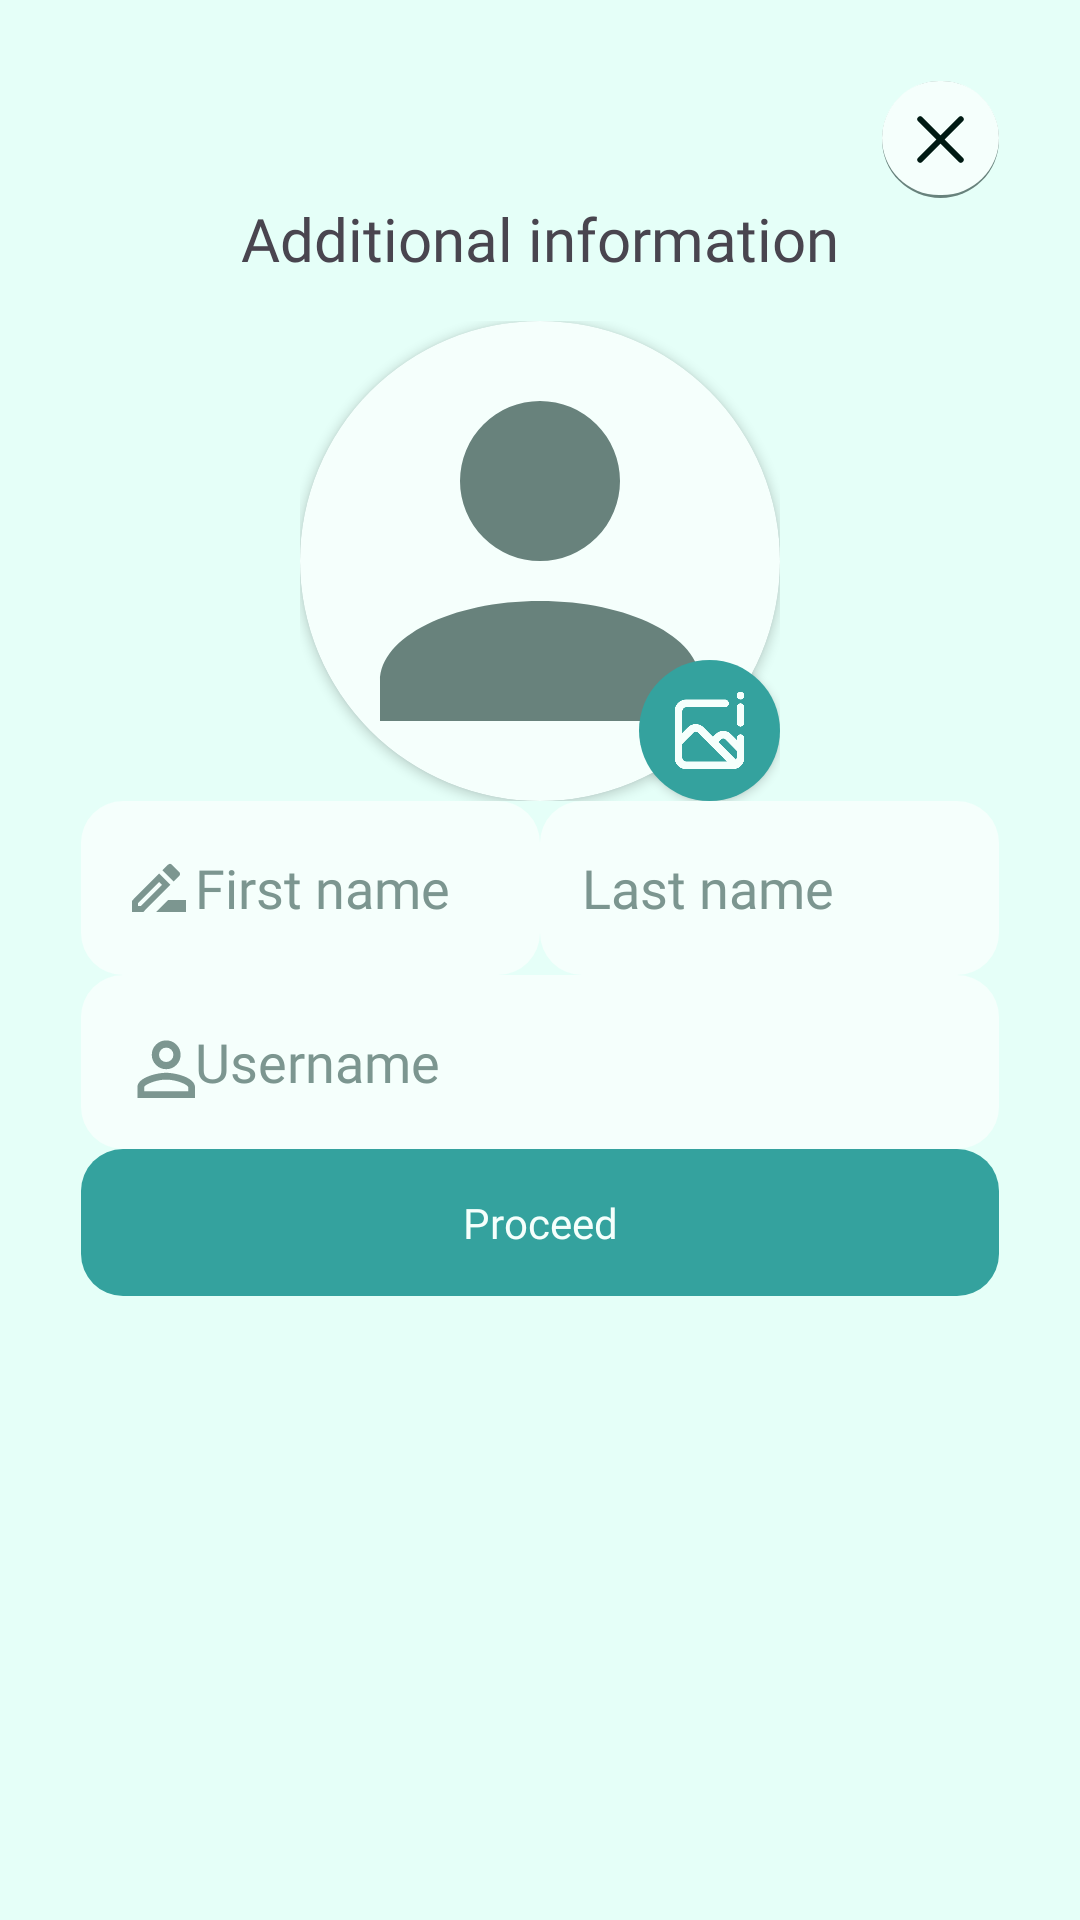

Icons on this 1080×1920 Android screen, each with its box as BBox(x1, y1, x2, y2):
cancel: BBox(917, 116, 964, 163)
rename: BBox(132, 864, 186, 912)
